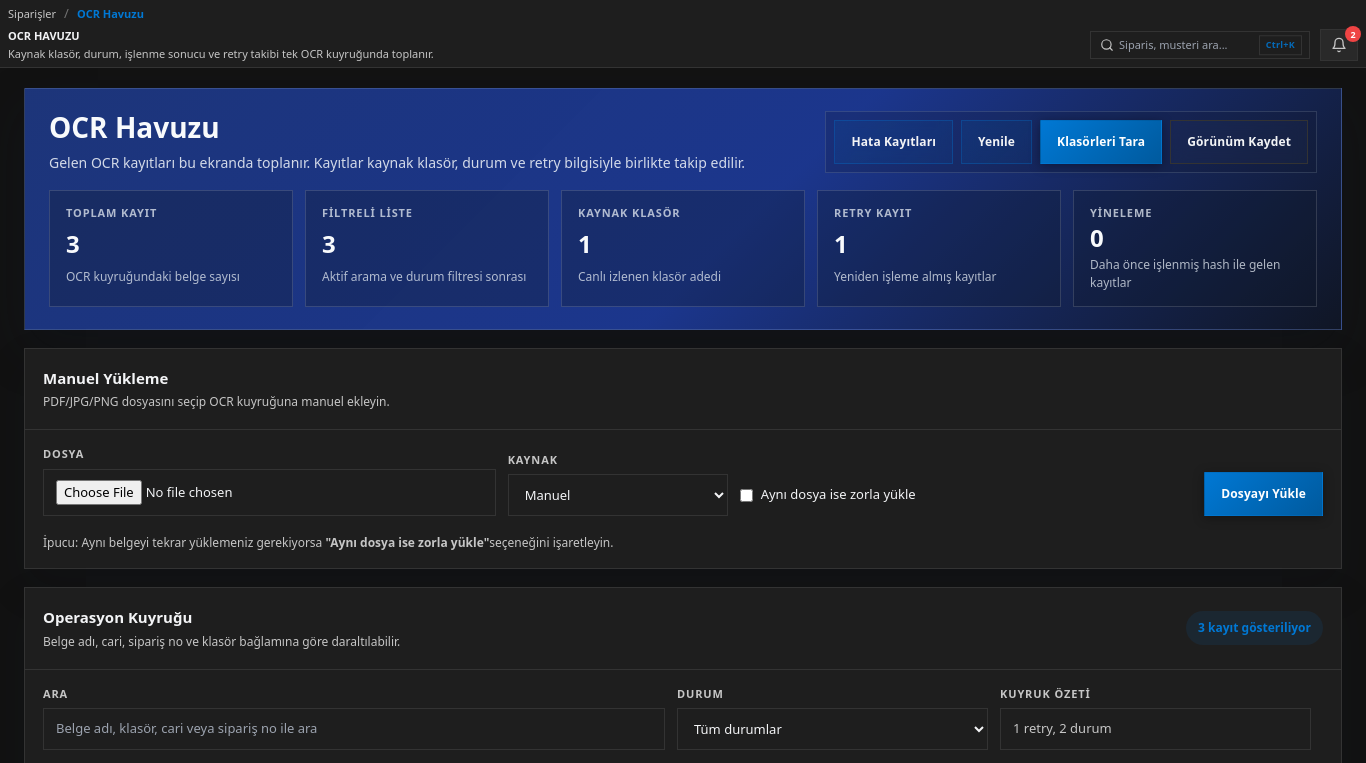
Test case: OCRPoolPage › Filtreyi Temizle butonu filtreleri sıfırlar
Type "aaaa" into the field with placeholder "Belge adı, klasör, cari veya sipariş no ile ara" at (354, 729), box [43,708,665,750]
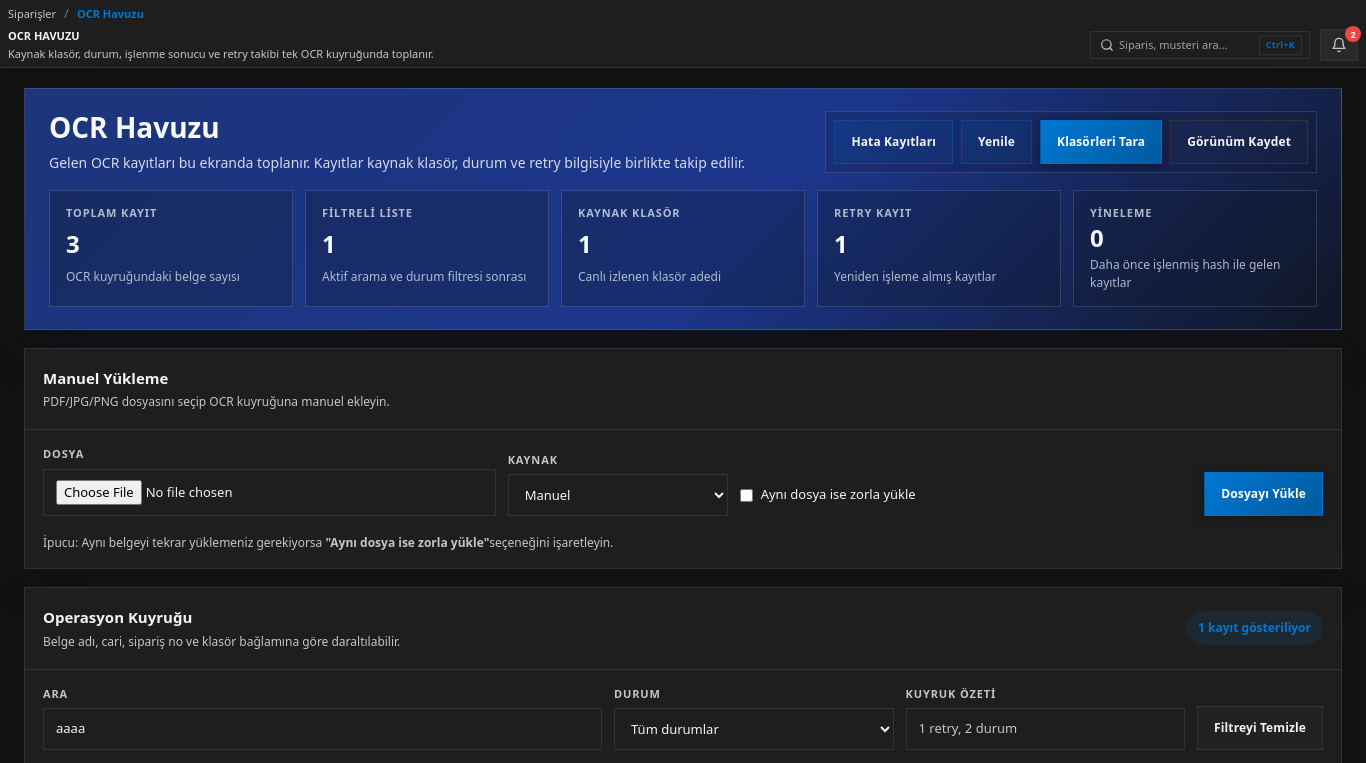
Expected: the button "Filtreyi Temizle" is shown
Click the button "Filtreyi Temizle" at (1260, 728), box [1197,706,1323,750]
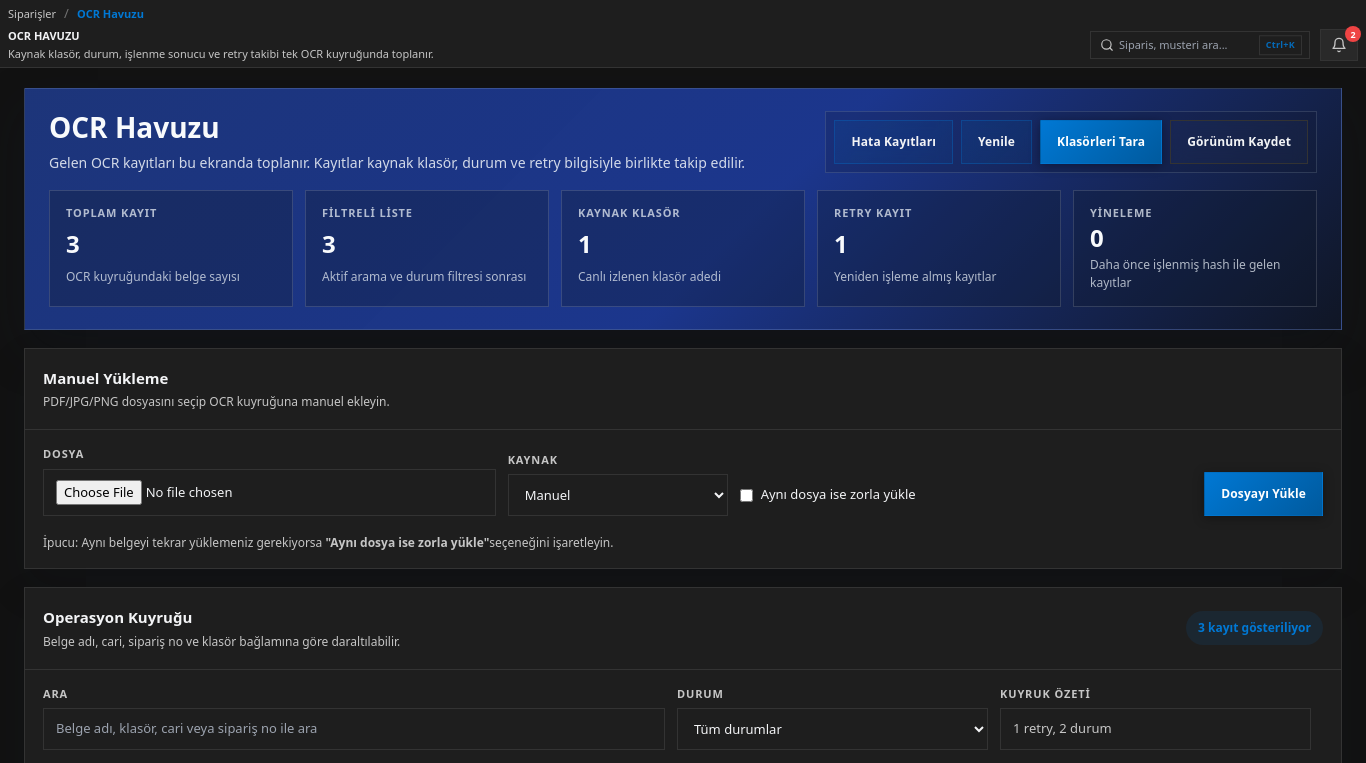
Expected: the text "3 kayıt gösteriliyor" is shown, [1186,611,1323,645]
